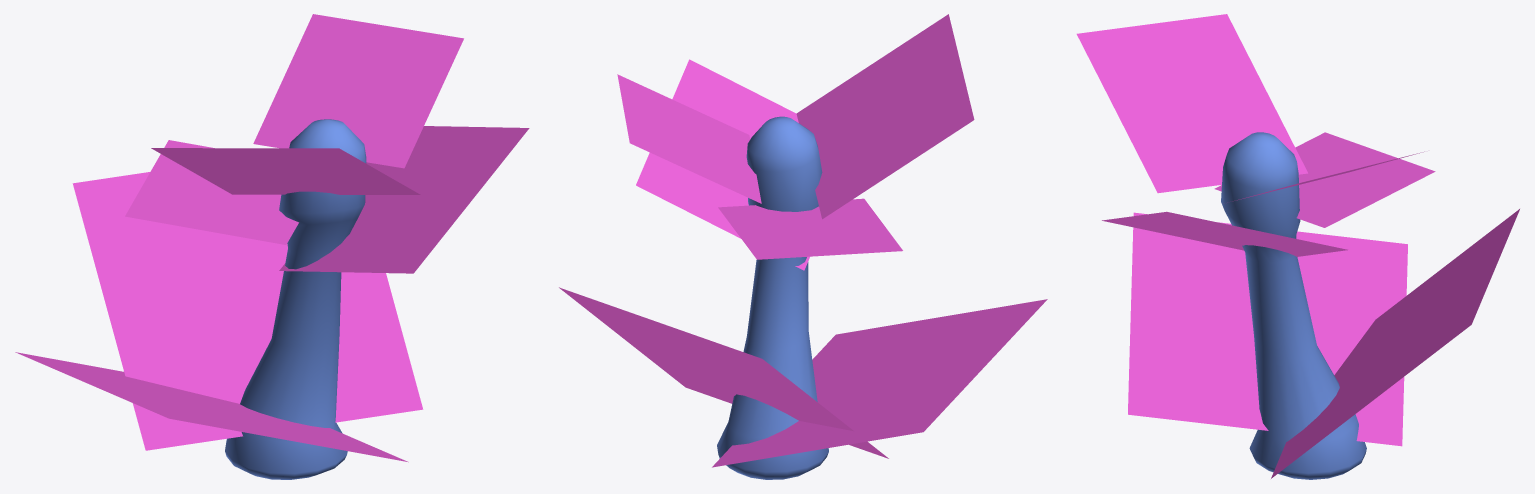
The picture shows the model from 3 angles, left to right: view 1: azimuth 30°, elevation 25°; view 2: azimuth 150°, elevation 25°; view 3: azimuth 270°, elevation 25°; orthographic projection. The views are drawn at different scales.
Parts seen in each view (by area): view 1: Cylinder.001, Cylinder; view 2: Cylinder.001, Cylinder; view 3: Cylinder.001, Cylinder.
Boxes of the visible parts, x1,y1,x2,y2 form: Cylinder.001: (15, 14, 529, 462); Cylinder: (225, 119, 366, 479); Cylinder.001: (559, 14, 1047, 467); Cylinder: (717, 116, 828, 479); Cylinder.001: (1076, 14, 1519, 478); Cylinder: (1221, 132, 1366, 479).
Bounding box in the file's own units: 308 × 328 × 320.
